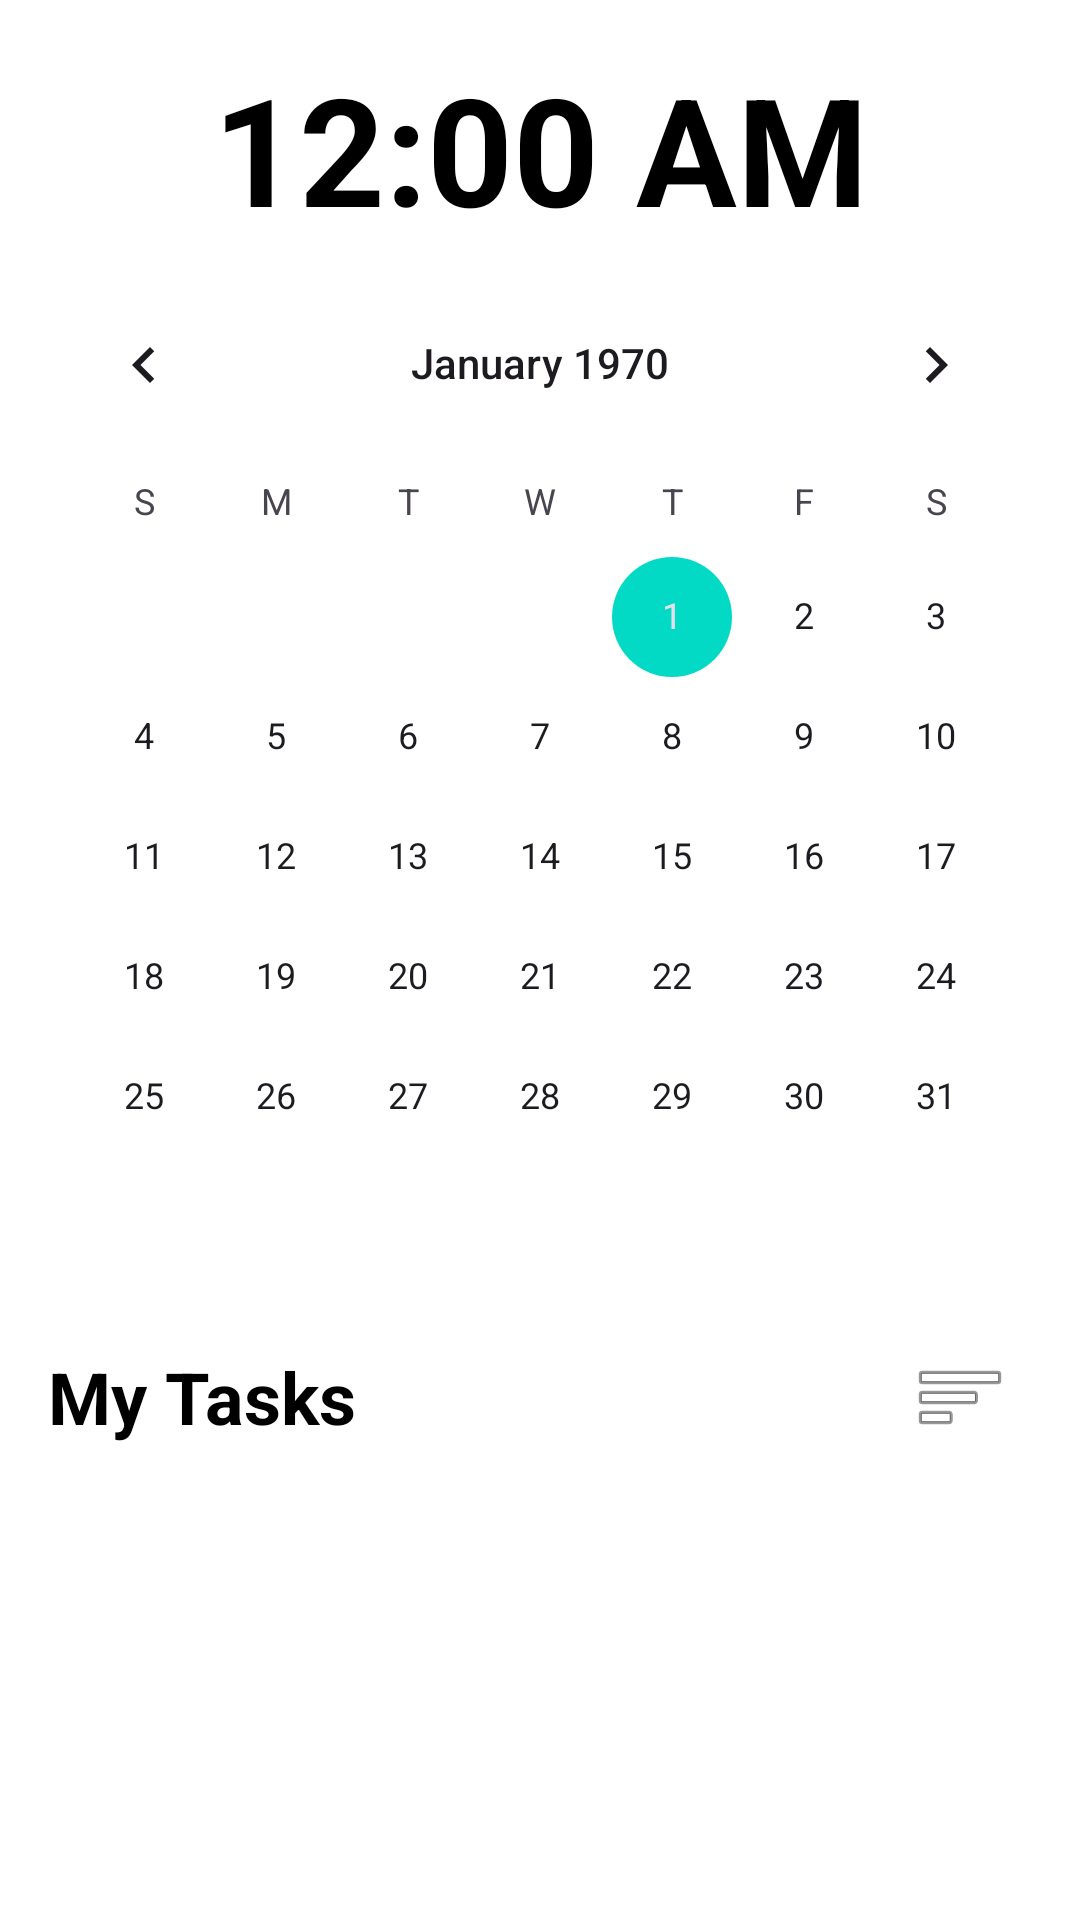

Icon click points for this 1080px x 1920px phone screenshot, format (x,y):
Sort tasks by priority, date, or title: (960,1397)
